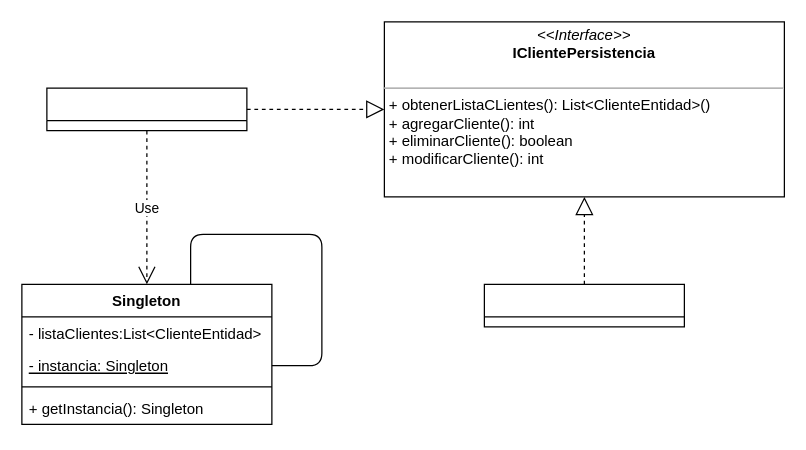
Some shapes in this 806 by 450 pixel diagram are drawn without their labels. Here are the shapes that lost their labels. From the top down, the box of each, then its label:
(46, 87, 247, 131): FakeCientePersistencia
(483, 283, 684, 327): CientePersistencia
